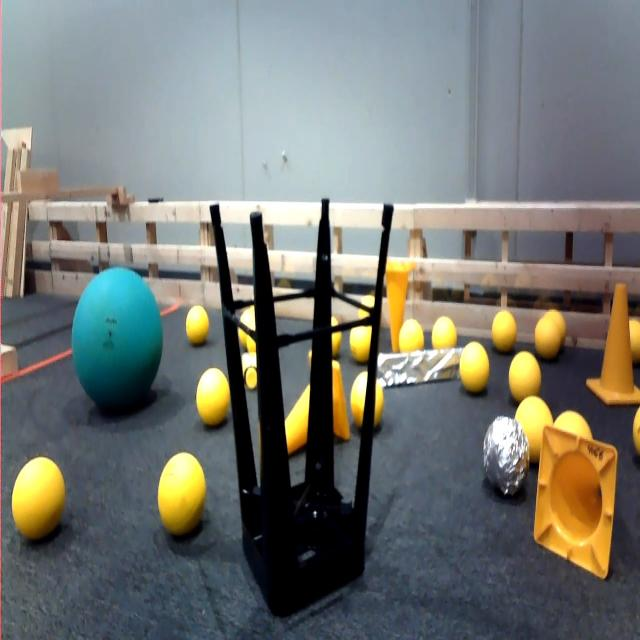fuel: (10, 439, 78, 564), (150, 442, 222, 532), (511, 390, 555, 461), (191, 360, 231, 430), (453, 338, 495, 400), (180, 294, 218, 358), (348, 367, 383, 430), (528, 316, 565, 375), (554, 400, 596, 449), (509, 351, 546, 402), (484, 299, 519, 349), (346, 315, 381, 365), (397, 314, 430, 358), (545, 299, 577, 339), (238, 296, 262, 348), (326, 302, 346, 358), (431, 309, 456, 350), (623, 307, 640, 367), (627, 394, 640, 463), (354, 287, 380, 321)
